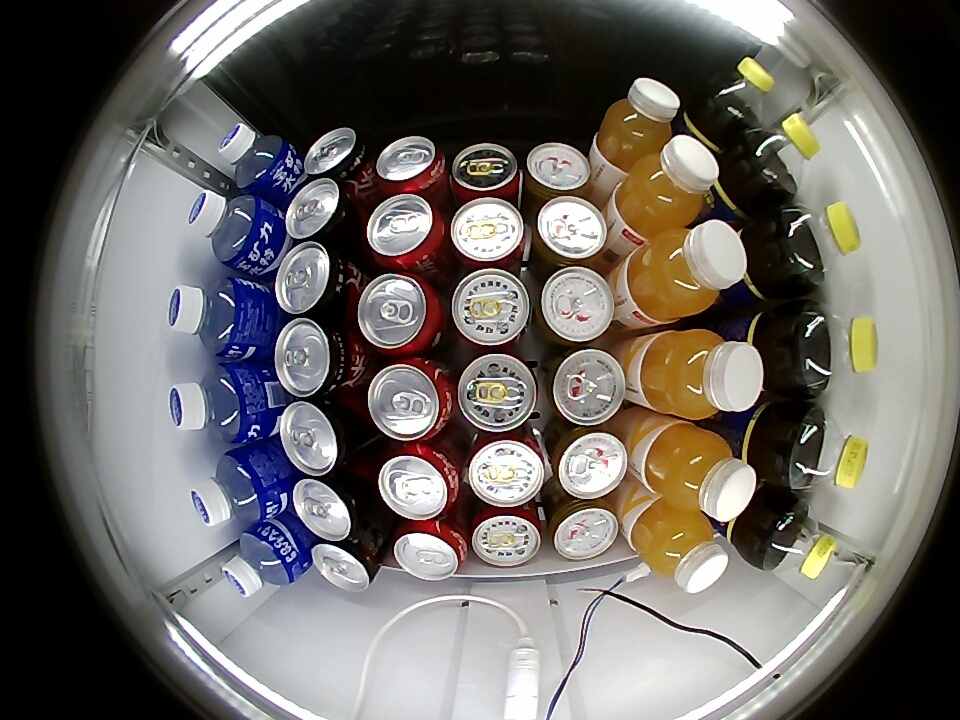baishikele: (784, 405, 870, 493), (797, 302, 879, 393), (779, 201, 862, 289), (741, 113, 820, 195), (756, 499, 838, 578), (701, 56, 774, 130)
baokuangli: (169, 362, 257, 443), (168, 276, 253, 359), (187, 188, 273, 270), (189, 449, 278, 527), (221, 523, 309, 598), (218, 123, 295, 194)
hongniu2: (533, 266, 616, 346), (543, 348, 627, 426), (549, 425, 628, 500), (531, 195, 609, 268), (548, 497, 620, 560), (523, 142, 593, 202)
kele: (367, 358, 453, 442), (356, 272, 442, 356), (378, 443, 460, 521), (365, 193, 445, 270), (392, 520, 468, 582), (374, 135, 445, 193)
lingdukele: (274, 318, 355, 398), (280, 397, 362, 476), (275, 242, 352, 318), (291, 471, 372, 541), (283, 178, 359, 247), (311, 533, 384, 592), (303, 127, 370, 186)
wangzainiunai: (456, 352, 539, 433), (465, 426, 545, 508), (450, 268, 531, 347), (448, 197, 526, 273), (470, 501, 544, 567), (451, 143, 521, 204)
weic: (625, 220, 748, 324), (639, 422, 757, 521), (638, 329, 765, 418), (613, 136, 720, 236), (627, 498, 730, 593), (595, 78, 682, 171)
